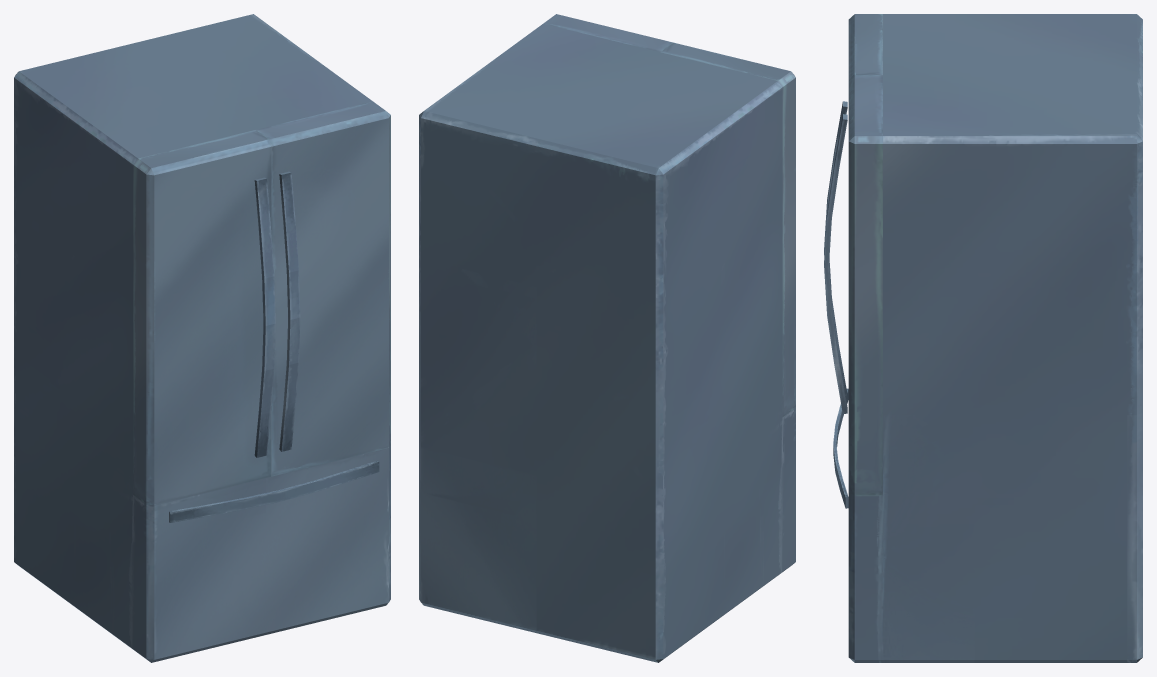
Rendered from MESH_Fridge_1_doors_v1.glb.
The picture shows the model from 3 angles, left to right: view 1: azimuth 30°, elevation 25°; view 2: azimuth 150°, elevation 25°; view 3: azimuth 270°, elevation 25°; orthographic projection. The views are drawn at different scales.
Visible parts, largest first — view 1: Cube.025, Cube.028, Cube.027; view 2: Cube.025, Cube.028, Cube.027; view 3: Cube.025, Cube.027, Cube.028.
Boxes of the visible parts, <box> form: Cube.025: <box>14,14,390,662</box>; Cube.028: <box>133,130,275,505</box>; Cube.027: <box>256,101,390,476</box>; Cube.025: <box>419,23,795,662</box>; Cube.028: <box>661,42,795,416</box>; Cube.027: <box>543,14,673,52</box>; Cube.025: <box>833,14,1142,662</box>; Cube.027: <box>824,75,882,495</box>; Cube.028: <box>824,14,882,400</box>.
Size of the model in its own units: 0.92 by 1.78 by 0.9756.
Materials: 1 (1 with a texture image).
